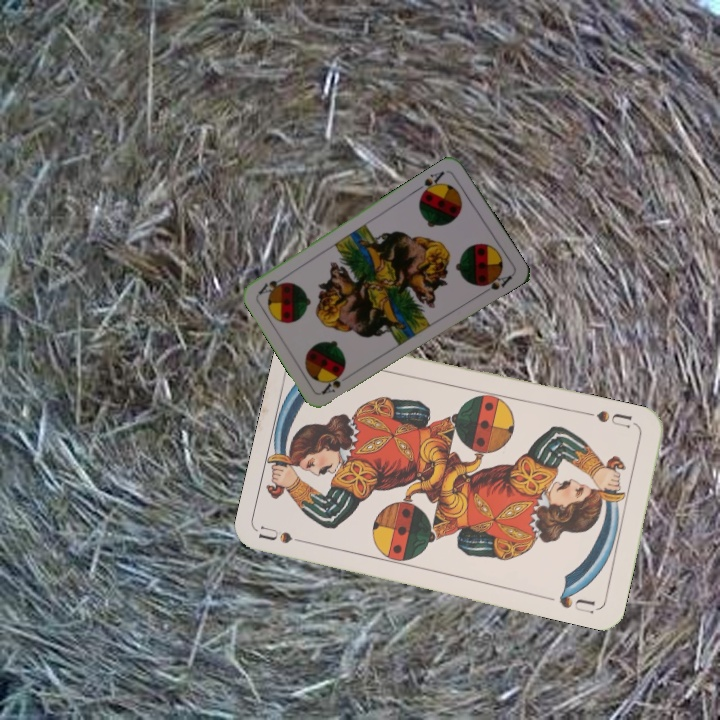SA: (317, 367, 354, 397), (413, 167, 447, 199)
SU: (256, 522, 316, 548), (582, 406, 641, 431)
